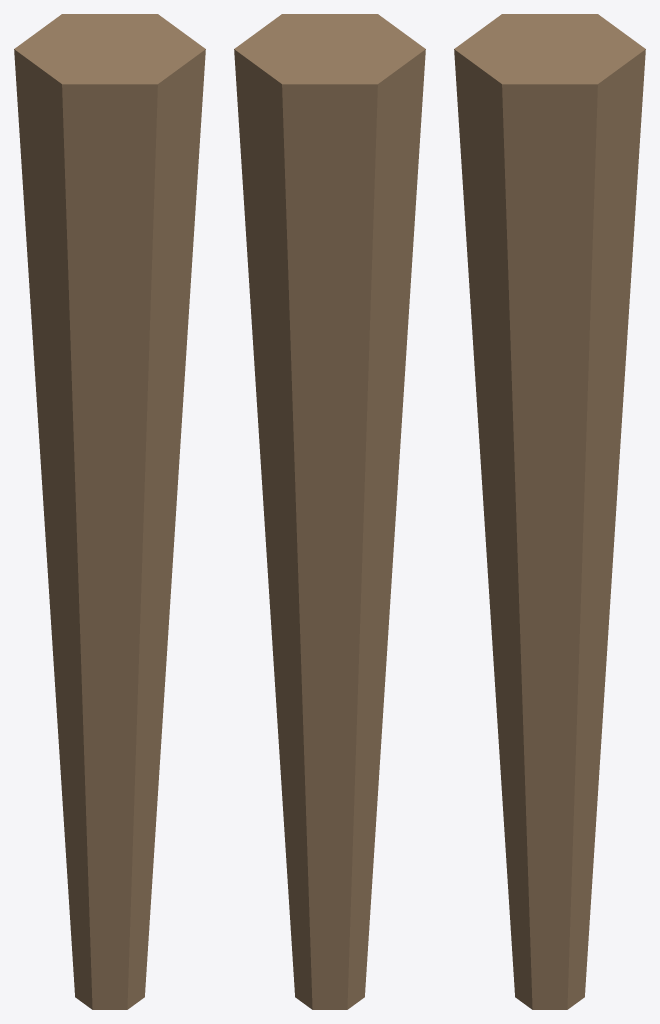
Rendered from prop-knotting-peg-nm1.fbx.
3 views of the same model, side by side, from view 1: azimuth 30°, elevation 25°; view 2: azimuth 150°, elevation 25°; view 3: azimuth 270°, elevation 25° (orthographic).
Visible parts, largest first — view 1: prop-knotting-peg-nm1; view 2: prop-knotting-peg-nm1; view 3: prop-knotting-peg-nm1.
Boxes of the visible parts, <box> form: prop-knotting-peg-nm1: <box>14,14,205,1009</box>; prop-knotting-peg-nm1: <box>234,14,425,1009</box>; prop-knotting-peg-nm1: <box>454,14,645,1009</box>.
Bounding box in the file's own units: 1.91 × 12 × 2.2.
